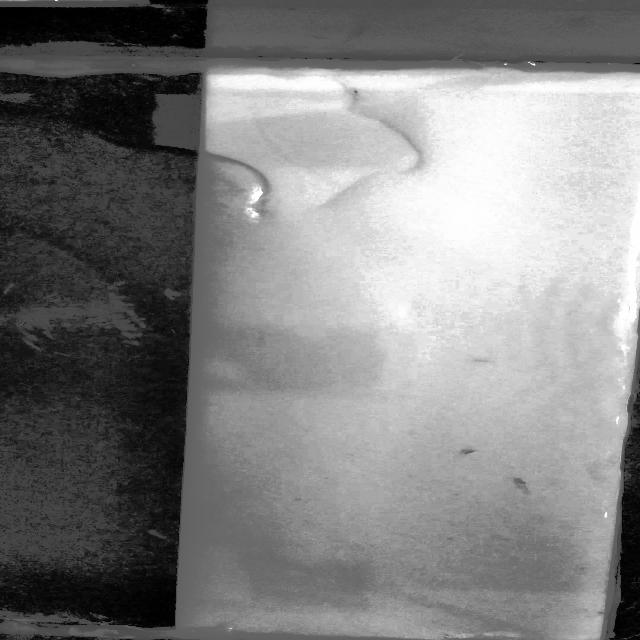shrimp: (510, 475, 542, 501), (458, 441, 486, 462), (345, 81, 370, 100)
